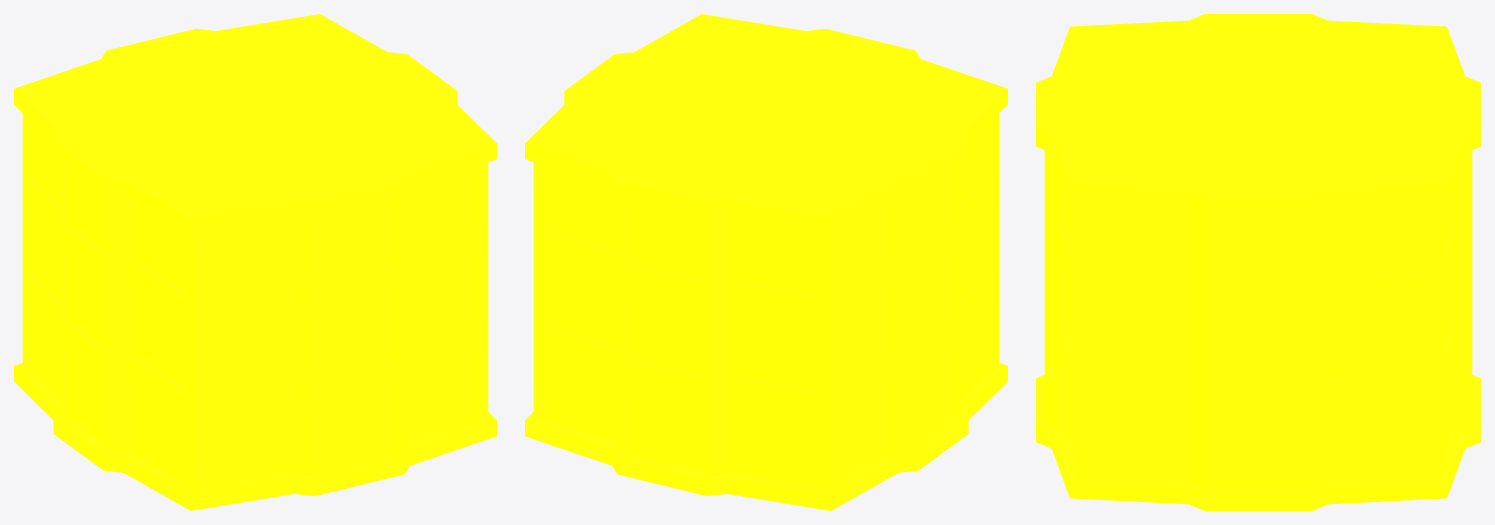
File: skyscraper2-part-middle-small.glb
3 renders of one model, left to right at view 1: azimuth 30°, elevation 25°; view 2: azimuth 150°, elevation 25°; view 3: azimuth 270°, elevation 25°, orthographic. The views are drawn at different scales.
Parts seen in each view (by area): view 1: skyscraper2-part-middle-small; view 2: skyscraper2-part-middle-small; view 3: skyscraper2-part-middle-small.
Part boxes in pixels (box(x1,y1,x2,y2)): skyscraper2-part-middle-small: box(14, 14, 496, 510); skyscraper2-part-middle-small: box(525, 14, 1007, 510); skyscraper2-part-middle-small: box(1036, 14, 1480, 510).
Bounding box in the file's own units: 13.92 × 11 × 14.19.
Materials: 1 (1 with a texture image).
